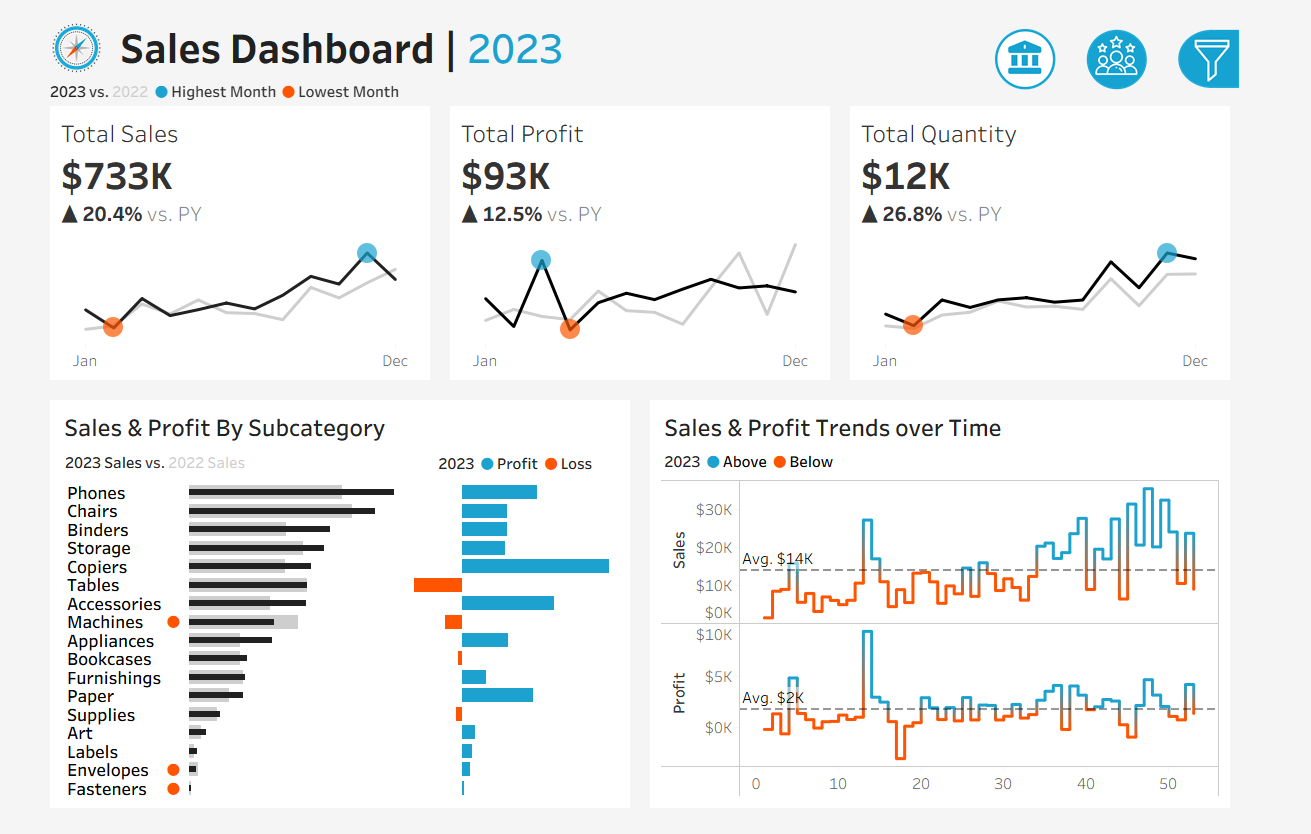

Layout of this report page (visuals, bound fields, positions):
{"tool":"tableau","page":{"name":"Sales Dashboard","canvas":[1200,800],"ordinal":1},"visuals":[{"type":"image","param":"Image/Icon - Logo.png","box":[0,0,73,59]},{"type":"text","box":[73,0,820,59]},{"type":"dashboard-object","box":[940,6,91,70]},{"type":"dashboard-object","box":[1031,6,91,70]},{"type":"blank","box":[952,10,237,86]},{"type":"worksheet","title":"Legend KPI","mark":"Automatic","box":[0,59,1200,29]},{"type":"worksheet","title":"KPI Sales","mark":"Automatic","rows":["Calculation_721701895347843083"],"cols":["Order Date"],"box":[0,88,400,284]},{"type":"worksheet","title":"KPI Profit","mark":"Automatic","rows":["Min/Max Sales (copy)_237846410425847814"],"cols":["Order Date"],"box":[400,88,400,284]},{"type":"worksheet","title":"KPI Quantity","mark":"Automatic","rows":["Min/Max Sales (copy) (copy)_237846410425856007"],"cols":["Order Date"],"box":[800,88,400,284]},{"type":"text","box":[952,96,237,37]},{"type":"parameter","param":"[Parameters].[Parameter 1]","box":[952,133,237,55]},{"type":"text","box":[952,188,237,32]},{"type":"filter","title":"KPI Sales","param":"[federated.1kpxa041aiai2y1cl4pui1t4eju9].[none:Category:nk]","box":[952,220,237,57]},{"type":"filter","title":"KPI Sales","param":"[federated.1kpxa041aiai2y1cl4pui1t4eju9].[none:Sub-Category:nk]","box":[952,277,237,57]},{"type":"blank","box":[952,334,237,60]},{"type":"text","box":[17,389,566,40]},{"type":"text","box":[617,389,566,40]},{"type":"text","box":[952,394,237,32]},{"type":"filter","title":"KPI Sales","param":"[federated.1kpxa041aiai2y1cl4pui1t4eju9].[none:Region:nk]","box":[952,426,237,57]},{"type":"worksheet","title":"Legend Subcategory","mark":"Automatic","box":[17,429,374,32]},{"type":"text","box":[391,429,192,32]},{"type":"text","box":[617,429,566,29]},{"type":"worksheet","title":"Weekly Trends","mark":"Automatic","rows":["Calculation_721701895334993921","CY Sales (copy)_237846410424180736"],"cols":["Order Date"],"box":[617,458,566,325]},{"type":"worksheet","title":"Subcategory Comparison","mark":"Bar","rows":["Sub-Category","Calculation_2435040078806671369"],"cols":["CY Sales (copy)_721701895335804930","Calculation_721701895334993921","CY Sales (copy)_237846410424180736"],"box":[17,461,566,321.9]},{"type":"filter","title":"KPI Sales","param":"[federated.1kpxa041aiai2y1cl4pui1t4eju9].[none:State:nk]","box":[952,483,237,57]},{"type":"filter","title":"KPI Sales","param":"[federated.1kpxa041aiai2y1cl4pui1t4eju9].[none:City:nk]","box":[952,540,237,57]}]}

Visuals, with their boxes on the page's 1200x800 design canvas (x1, y1, x2, y2). These are canvas units, not pixel positions in the 1311x834 screenshot, which may show the page scaled, cropped or inside an application window:
image: [0,0,73,59]
text: [73,0,893,59]
dashboard-object: [940,6,1031,76]
dashboard-object: [1031,6,1122,76]
blank: [952,10,1189,96]
"Legend KPI" worksheet: [0,59,1200,88]
"KPI Sales" worksheet: [0,88,400,372]
"KPI Profit" worksheet: [400,88,800,372]
"KPI Quantity" worksheet: [800,88,1200,372]
text: [952,96,1189,133]
parameter: [952,133,1189,188]
text: [952,188,1189,220]
"KPI Sales" filter: [952,220,1189,277]
"KPI Sales" filter: [952,277,1189,334]
blank: [952,334,1189,394]
text: [17,389,583,429]
text: [617,389,1183,429]
text: [952,394,1189,426]
"KPI Sales" filter: [952,426,1189,483]
"Legend Subcategory" worksheet: [17,429,391,461]
text: [391,429,583,461]
text: [617,429,1183,458]
"Weekly Trends" worksheet: [617,458,1183,783]
"Subcategory Comparison" worksheet (Bar marks): [17,461,583,783]
"KPI Sales" filter: [952,483,1189,540]
"KPI Sales" filter: [952,540,1189,597]
